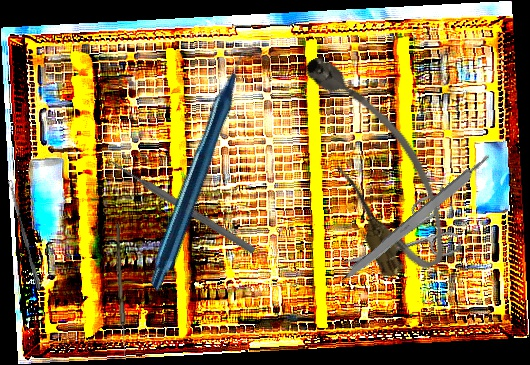Cannula: (289, 36, 462, 287)
Handpiece: (71, 42, 340, 293)
Iris Scissors: (331, 190, 464, 294)
Pusher: (106, 155, 257, 256)
Scalpel Handle: (337, 151, 497, 288)
Surgical Spoon: (7, 179, 43, 292), (113, 223, 129, 361)
